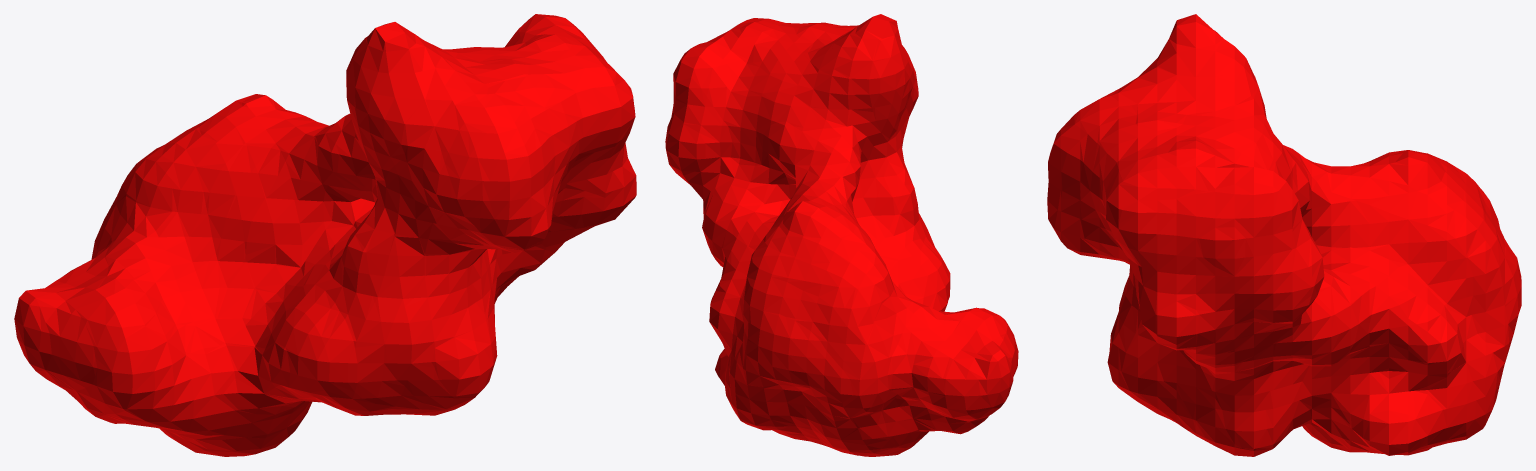
File: Fibronectin_coarse.dae
3 renders of one model, left to right at view 1: azimuth 30°, elevation 25°; view 2: azimuth 150°, elevation 25°; view 3: azimuth 270°, elevation 25°, orthographic. The views are drawn at different scales.
Visible parts, largest first — view 1: Fibronectin; view 2: Fibronectin; view 3: Fibronectin.
Part boxes in pixels (box(x1,y1,x2,y2)): Fibronectin: box(14, 14, 636, 456); Fibronectin: box(665, 14, 1018, 456); Fibronectin: box(1047, 14, 1521, 456).
Size of the model in its own units: 72.34 by 65.02 by 61.11.
